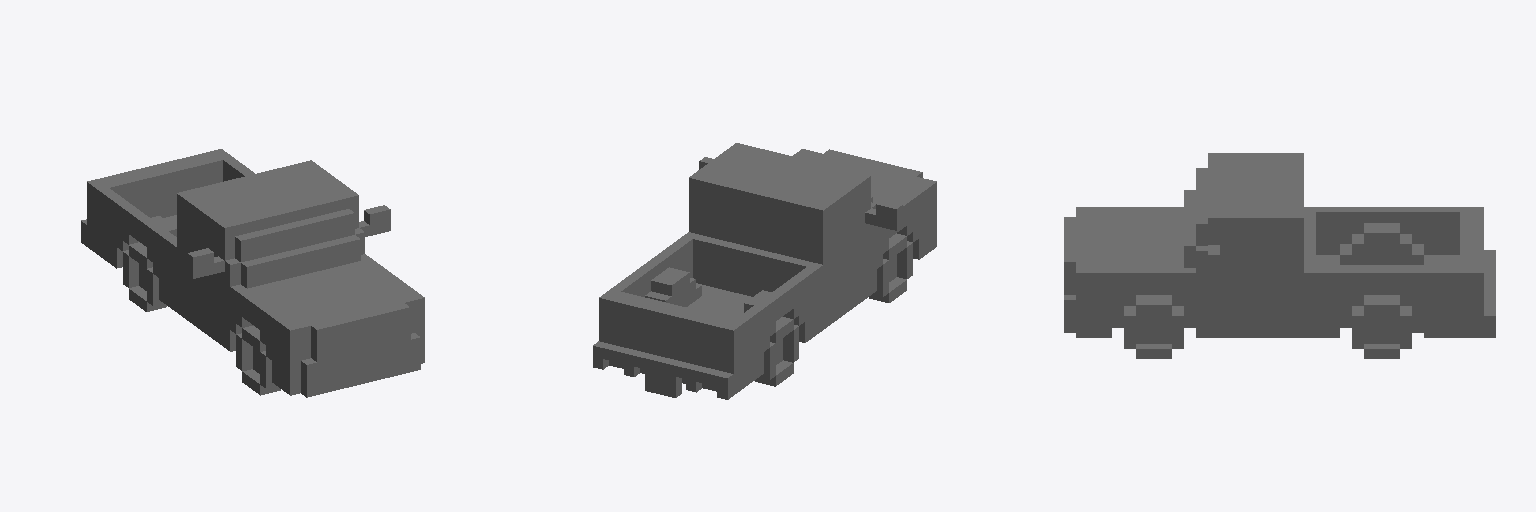
Rendered from troca.obj.
The picture shows the model from 3 angles: view 1: azimuth 30°, elevation 25°; view 2: azimuth 150°, elevation 25°; view 3: azimuth 270°, elevation 25°; orthographic projection.
Visible parts, largest first — view 1: default; view 2: default; view 3: default.
Part boxes in pixels (bbox=[...]): default: bbox=[81, 149, 424, 397]; default: bbox=[593, 143, 936, 399]; default: bbox=[1064, 153, 1495, 358].
Bounding box in the file's own units: 9.43 × 6.45 × 17.86.